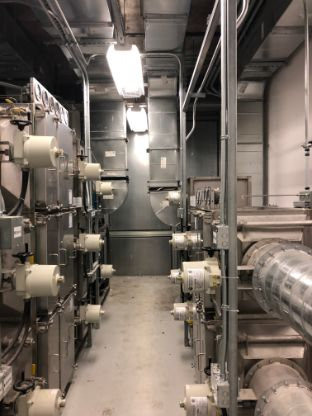Duct: (46, 2, 132, 215), (237, 1, 312, 211), (140, 1, 196, 229)
